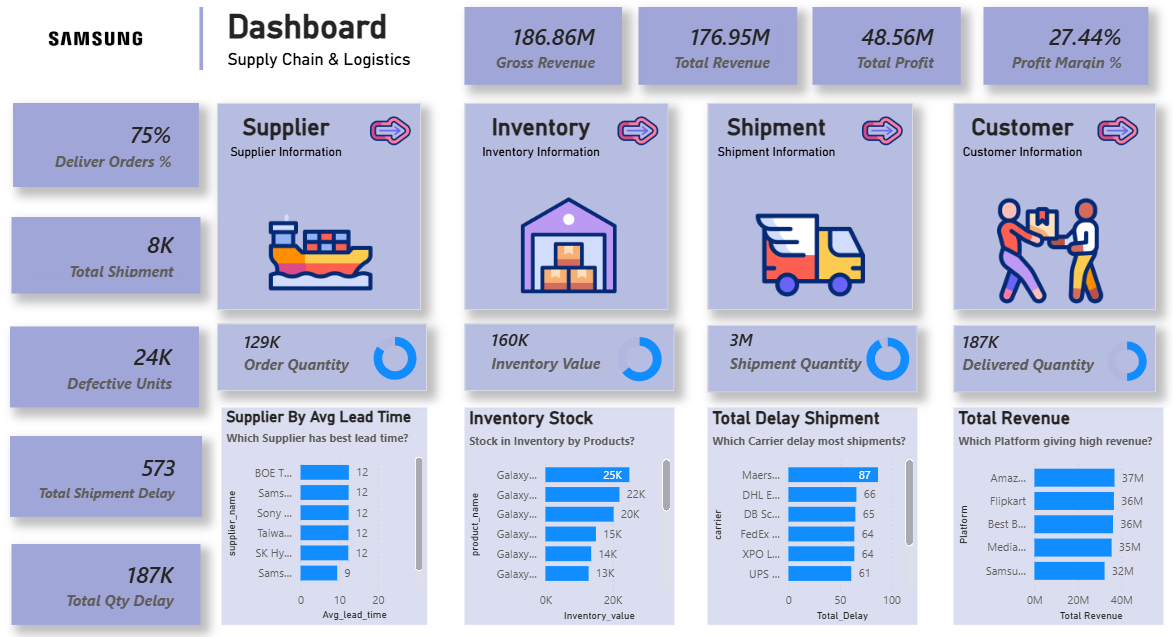

The page's visual inventory and layout, read from the dashboard file:
{"tool":"powerbi","page":{"name":"Overview","canvas":[1280,720],"ordinal":1},"visuals":[{"type":"shape","box":[240.2,119.8,220.2,223.5],"z":0},{"type":"shape","box":[507.4,119.8,220.2,223.5],"z":1000},{"type":"shape","box":[769.7,119.8,221.8,223.5],"z":2000},{"type":"shape","box":[1034.7,119.8,218.6,223.5],"z":3000},{"type":"image","box":[243.4,225.1,217,111.7],"z":4000},{"type":"image","box":[512.2,221.8,215.4,103.6],"z":5000},{"type":"image","box":[769.7,225.1,221.8,118.2],"z":6000},{"type":"image","box":[1082.2,200.8,115,157.1],"z":7000},{"type":"image","box":[405.3,119.8,43.7,59.9],"z":8000},{"type":"image","box":[672.5,119.8,43.7,59.9],"z":9000},{"type":"image","box":[936.5,119.8,43.7,59.9],"z":10000},{"type":"image","box":[1190.7,119.8,43.7,59.9],"z":11000},{"type":"shape","title":"Supplier","box":[240.2,131.2,149,48.6],"z":12000},{"type":"shape","title":"Inventory","box":[507.4,131.2,165.2,48.6],"z":13000},{"type":"shape","title":"Shipment","box":[769.7,131.2,149,48.6],"z":14000},{"type":"shape","title":"Customer","box":[1035.2,131.2,149,48.6],"z":15000},{"type":"shape","title":"Dashboard","box":[251,16.2,208.9,89.1],"z":16000},{"type":"shape","box":[212.1,16.2,21,68],"z":17000},{"type":"image","box":[16.2,0,184.6,100.4],"z":18000},{"type":"cardVisual","fields":{"Data":["New_Measures.Total_revenue"]},"box":[694.6,16.2,171.6,84.2],"z":19000},{"type":"cardVisual","fields":{"Data":["New_Measures.Total_profit"]},"box":[882.5,16.2,160.3,84.2],"z":20000},{"type":"cardVisual","fields":{"Data":["New_Measures.Profit_Margin_%"]},"box":[1067.1,16.2,178.1,84.2],"z":21000},{"type":"cardVisual","fields":{"Data":["New_Measures.Delivered_Orders_%"]},"box":[19.4,119.8,200.8,90.7],"z":22000},{"type":"cardVisual","fields":{"Data":["New_Measures.Total_Shipment"]},"box":[17.8,242.9,204,82.6],"z":23000},{"type":"cardVisual","fields":{"Data":["Sum(fact_sales.gross_revenue)"]},"box":[506.8,16.2,170,84.2],"z":24000},{"type":"shape","box":[239.6,357.8,226.7,72.9],"z":25000},{"type":"shape","box":[506.8,357.8,226.7,72.9],"z":26000},{"type":"shape","box":[769.1,359.5,226.7,72.9],"z":27000},{"type":"shape","box":[1034.7,359.5,218.6,72.9],"z":28000},{"type":"cardVisual","fields":{"Data":["New_Measures.Order_Qty"]},"box":[239.6,344.9,226.7,87.4],"z":29000},{"type":"cardVisual","fields":{"Data":["New_Measures.Inventory_value"]},"box":[506.8,343.3,226.7,87.4],"z":30000},{"type":"cardVisual","fields":{"Data":["New_Measures.Shipment_Quantity"]},"box":[764.3,343.3,226.7,87.4],"z":31000},{"type":"cardVisual","fields":{"Data":["New_Measures.Delivered_Quantity"]},"box":[1015.3,348.1,238,81],"z":32000},{"type":"barChart","title":"Supplier By Avg Lead Time","fields":{"Y":["New_Measures.Avg_lead_time"],"Category":["dim_supplier.supplier_name"]},"box":[244.5,448.5,221.8,234.8],"z":33000},{"type":"barChart","title":"Inventory Stock","fields":{"Category":["dim_product.product_name"],"Y":["New_Measures.Inventory_value"]},"box":[506.8,448.5,226.7,234.8],"z":34000},{"type":"barChart","title":"Total Delay Shipment","fields":{"Category":["fact_shipment.carrier"],"Y":["New_Measures.Total_Delay"]},"box":[769.1,448.5,226.7,234.8],"z":35000},{"type":"barChart","title":"Total Revenue","fields":{"Y":["New_Measures.Total_revenue"],"Category":["dim_customer.customer_name"]},"box":[1034.7,448.5,226.7,234.8],"z":36000},{"type":"donutChart","fields":{"Y":["New_Measures.Order_Qty","New_Measures.Defective_Units"]},"box":[388.6,361.1,85.8,68],"z":37000},{"type":"donutChart","fields":{"Y":["New_Measures.Inventory_value","New_Measures.Safety_Stock"]},"box":[660.6,359.5,69.6,72.9],"z":38000},{"type":"donutChart","fields":{"Y":["New_Measures.Total_Shipment","New_Measures.Total_Delay"]},"box":[929.4,361.1,68,69.6],"z":39000},{"type":"donutChart","fields":{"Y":["New_Measures.Delivered_Quantity","New_Measures.Total_Qty_Delay"]},"box":[1190.1,361.1,63.1,74.5],"z":40000},{"type":"cardVisual","fields":{"Data":["New_Measures.Defective_Units"]},"box":[16.2,361.1,204,87.4],"z":41000},{"type":"cardVisual","fields":{"Data":["New_Measures.Total_Delay"]},"box":[16.2,479.3,207.3,87.4],"z":42000},{"type":"cardVisual","fields":{"Data":["New_Measures.Total_Qty_Delay"]},"box":[17.8,595.9,204,87.4],"z":43000}]}

Visuals, with their boxes on the page's 1280x720 design canvas (x1, y1, x2, y2). These are canvas units, not pixel positions in the 1173x637 screenshot, which may show the page scaled, cropped or inside an application window:
shape: locate(240, 120, 460, 343)
shape: locate(507, 120, 728, 343)
shape: locate(770, 120, 992, 343)
shape: locate(1035, 120, 1253, 343)
image: locate(243, 225, 460, 337)
image: locate(512, 222, 728, 325)
image: locate(770, 225, 992, 343)
image: locate(1082, 201, 1197, 358)
image: locate(405, 120, 449, 180)
image: locate(672, 120, 716, 180)
image: locate(936, 120, 980, 180)
image: locate(1191, 120, 1234, 180)
"Supplier" shape: locate(240, 131, 389, 180)
"Inventory" shape: locate(507, 131, 673, 180)
"Shipment" shape: locate(770, 131, 919, 180)
"Customer" shape: locate(1035, 131, 1184, 180)
"Dashboard" shape: locate(251, 16, 460, 105)
shape: locate(212, 16, 233, 84)
image: locate(16, 0, 201, 100)
cardVisual - New_Measures.Total_revenue: locate(695, 16, 866, 100)
cardVisual - New_Measures.Total_profit: locate(882, 16, 1043, 100)
cardVisual - New_Measures.Profit_Margin_%: locate(1067, 16, 1245, 100)
cardVisual - New_Measures.Delivered_Orders_%: locate(19, 120, 220, 210)
cardVisual - New_Measures.Total_Shipment: locate(18, 243, 222, 326)
cardVisual - Sum(fact_sales.gross_revenue): locate(507, 16, 677, 100)
shape: locate(240, 358, 466, 431)
shape: locate(507, 358, 734, 431)
shape: locate(769, 360, 996, 432)
shape: locate(1035, 360, 1253, 432)
cardVisual - New_Measures.Order_Qty: locate(240, 345, 466, 432)
cardVisual - New_Measures.Inventory_value: locate(507, 343, 734, 431)
cardVisual - New_Measures.Shipment_Quantity: locate(764, 343, 991, 431)
cardVisual - New_Measures.Delivered_Quantity: locate(1015, 348, 1253, 429)
"Supplier By Avg Lead Time" barChart: locate(244, 448, 466, 683)
"Inventory Stock" barChart: locate(507, 448, 734, 683)
"Total Delay Shipment" barChart: locate(769, 448, 996, 683)
"Total Revenue" barChart: locate(1035, 448, 1261, 683)
donutChart - New_Measures.Order_Qty x New_Measures.Defective_Units: locate(389, 361, 474, 429)
donutChart - New_Measures.Inventory_value x New_Measures.Safety_Stock: locate(661, 360, 730, 432)
donutChart - New_Measures.Total_Shipment x New_Measures.Total_Delay: locate(929, 361, 997, 431)
donutChart - New_Measures.Delivered_Quantity x New_Measures.Total_Qty_Delay: locate(1190, 361, 1253, 436)
cardVisual - New_Measures.Defective_Units: locate(16, 361, 220, 448)
cardVisual - New_Measures.Total_Delay: locate(16, 479, 224, 567)
cardVisual - New_Measures.Total_Qty_Delay: locate(18, 596, 222, 683)
